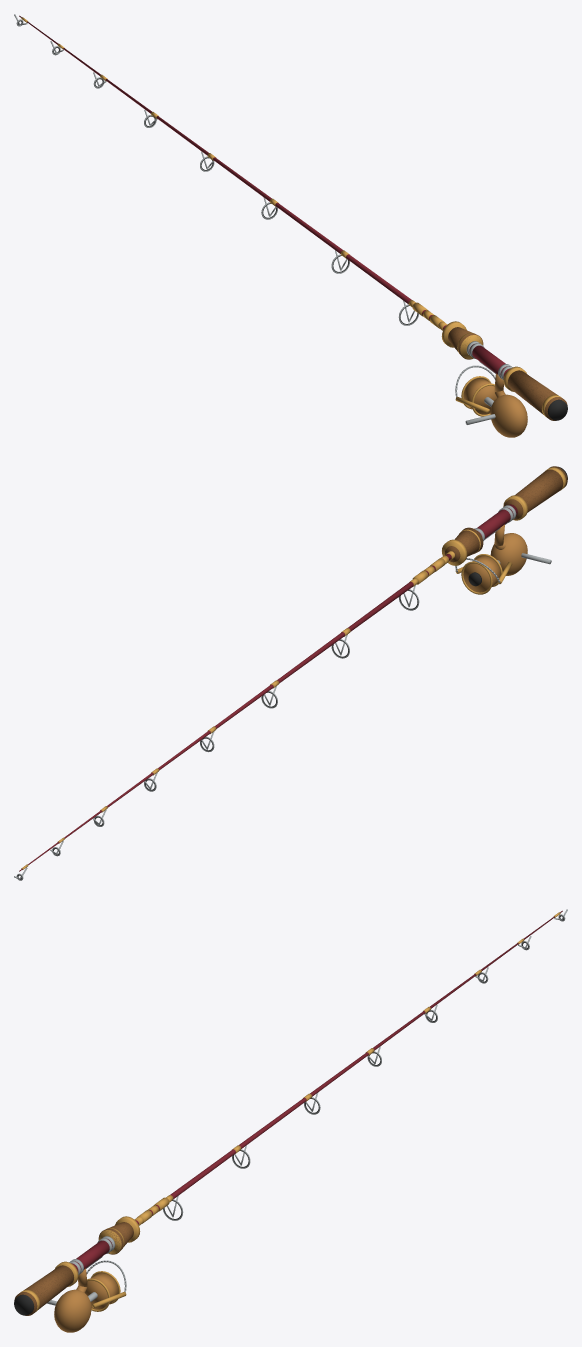
File: heron.glb
3 renders of one model, top to bottom at view 1: azimuth 30°, elevation 25°; view 2: azimuth 150°, elevation 25°; view 3: azimuth 330°, elevation 25°, orthographic.
Visible parts, largest first — view 1: Tapered carbon blank.002; view 2: Tapered carbon blank.002; view 3: Tapered carbon blank.002.
Boxes of the visible parts, x1,y1,x2,y2 form: Tapered carbon blank.002: (14, 14, 567, 437); Tapered carbon blank.002: (14, 466, 567, 880); Tapered carbon blank.002: (14, 909, 567, 1332).
Bounding box in the file's own units: 0.1318 × 0.1428 × 1.91.
Materials: 8 (1 with a texture image).
